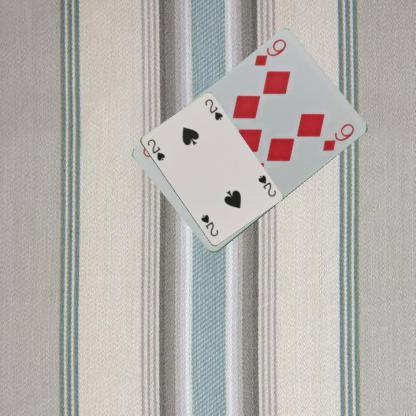2s: (144, 136, 166, 162), (255, 172, 277, 198)
9d: (251, 36, 288, 68)
